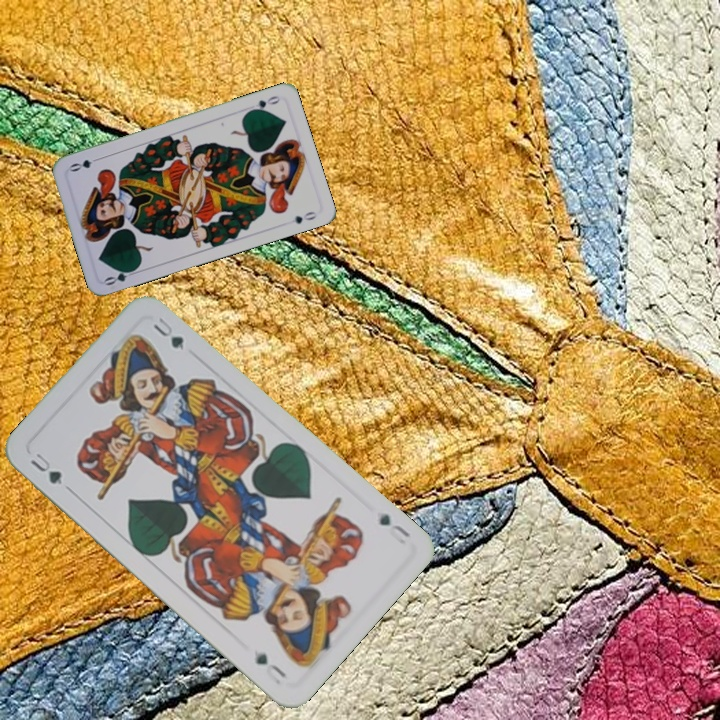GO: (101, 264, 141, 288), (245, 92, 283, 115)
GU: (26, 449, 65, 488), (375, 509, 414, 540)
